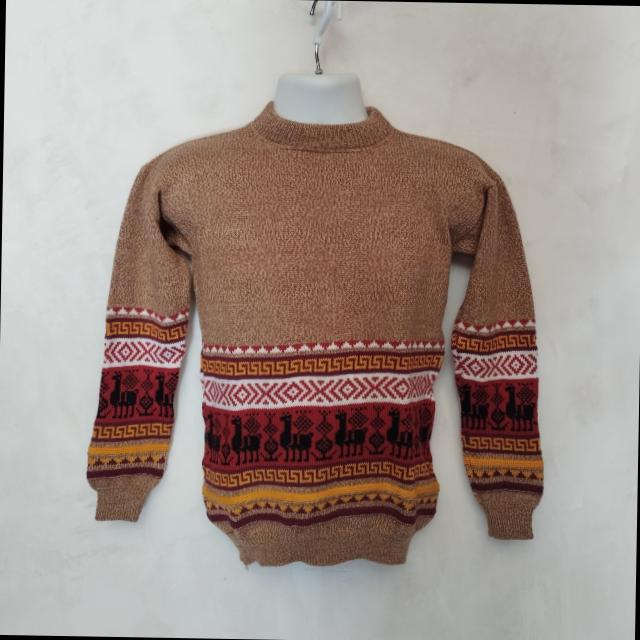Chompa: (84, 68, 551, 572)
